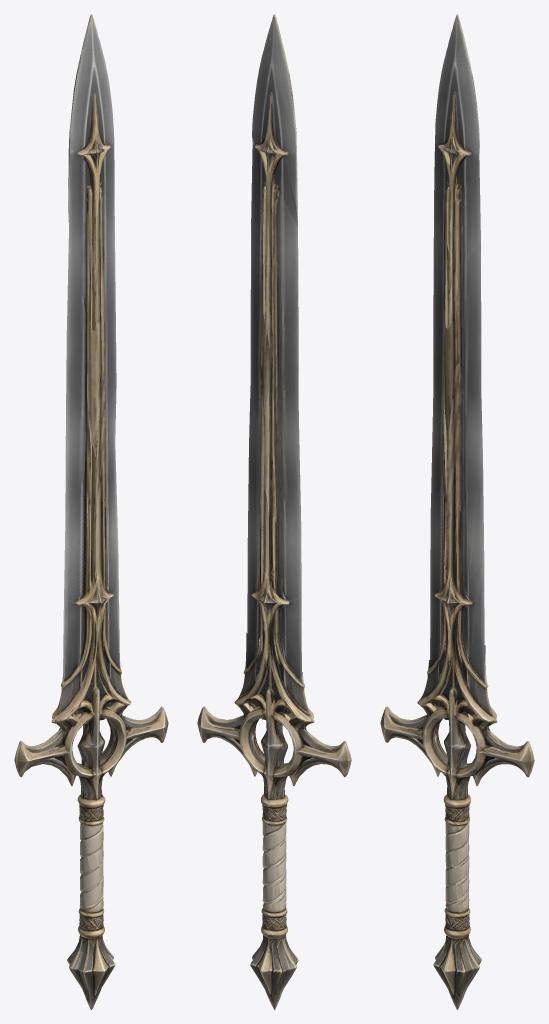
File: GRS056_Remesh_10k.fbx
3 renders of one model, left to right at view 1: azimuth 30°, elevation 25°; view 2: azimuth 150°, elevation 25°; view 3: azimuth 330°, elevation 25°, orthographic.
Visible parts, largest first — view 1: output_unwrapped; view 2: output_unwrapped; view 3: output_unwrapped.
Part boxes in pixels (x1,y1,x2,y2): output_unwrapped: [14, 14, 168, 1009]; output_unwrapped: [197, 14, 351, 1009]; output_unwrapped: [380, 14, 534, 1009].
Size of the model in its own units: 30.68 by 190 by 8.97.
Materials: 1 (1 with a texture image).
